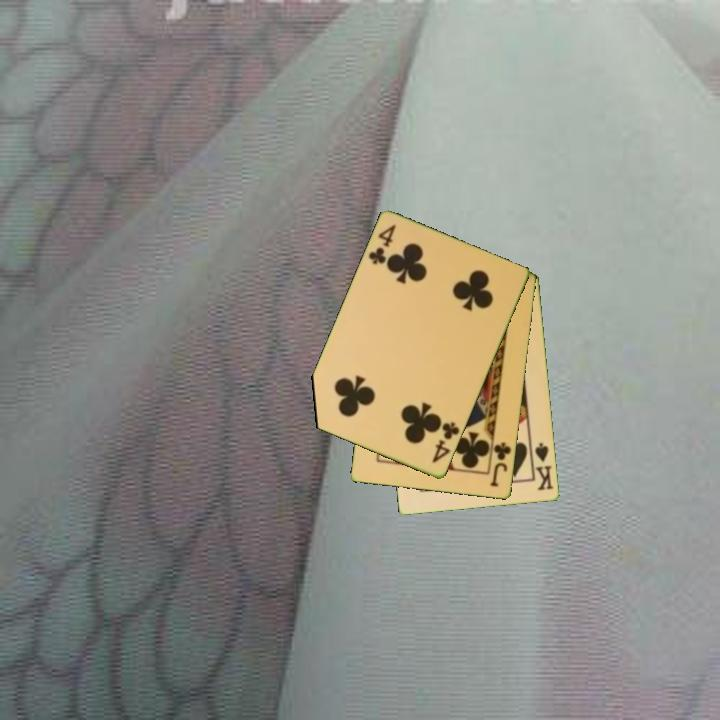4c: (428, 419, 463, 466), (365, 221, 399, 268)
Jc: (487, 439, 514, 490)
Ks: (528, 440, 556, 493)
